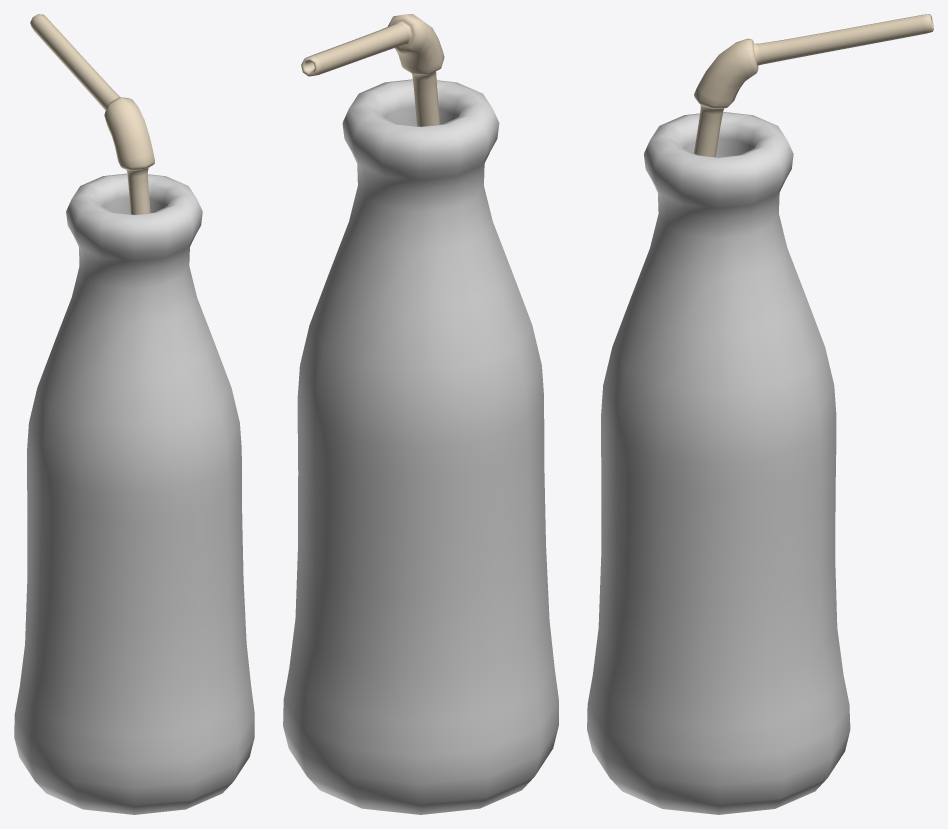
File: refresco con popote uv .fbx
3 renders of one model, left to right at view 1: azimuth 30°, elevation 25°; view 2: azimuth 150°, elevation 25°; view 3: azimuth 270°, elevation 25°, orthographic. The views are drawn at different scales.
Visible parts, largest first — view 1: botella refresco reserva, Cubo.002; view 2: botella refresco reserva, Cubo.002; view 3: botella refresco reserva, Cubo.002.
Boxes of the visible parts, <box> form: botella refresco reserva: <box>14,173,254,814</box>; Cubo.002: <box>30,14,154,214</box>; botella refresco reserva: <box>283,79,558,814</box>; Cubo.002: <box>301,14,444,126</box>; botella refresco reserva: <box>587,112,850,814</box>; Cubo.002: <box>694,14,933,156</box>.
Size of the model in its own units: 99.72 by 321 by 132.
